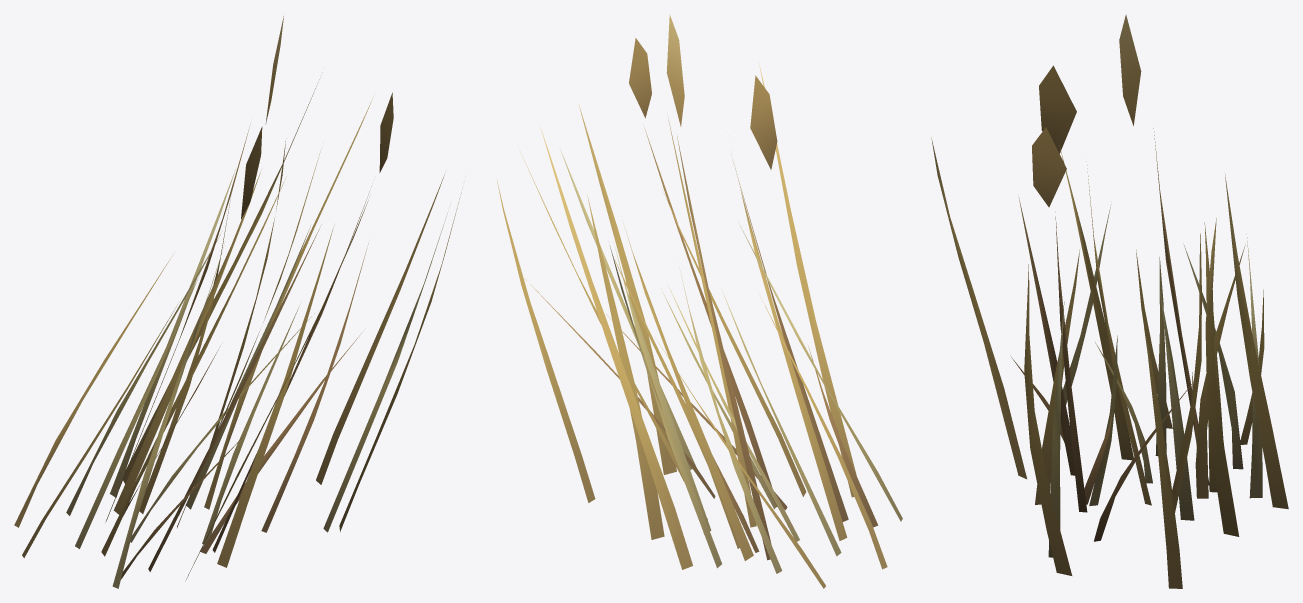
File: DryTuftFan_LOD0.glb
3 renders of one model, left to right at view 1: azimuth 30°, elevation 25°; view 2: azimuth 150°, elevation 25°; view 3: azimuth 270°, elevation 25°, orthographic. The views are drawn at different scales.
Parts seen in each view (by area): view 1: DryTuftFan_LOD0; view 2: DryTuftFan_LOD0; view 3: DryTuftFan_LOD0.
Part boxes in pixels (x1,y1,x2,y2): DryTuftFan_LOD0: (14, 16, 462, 588); DryTuftFan_LOD0: (496, 14, 902, 588); DryTuftFan_LOD0: (931, 14, 1288, 588).
Size of the model in its own units: 0.2405 by 0.2787 by 0.1654.
